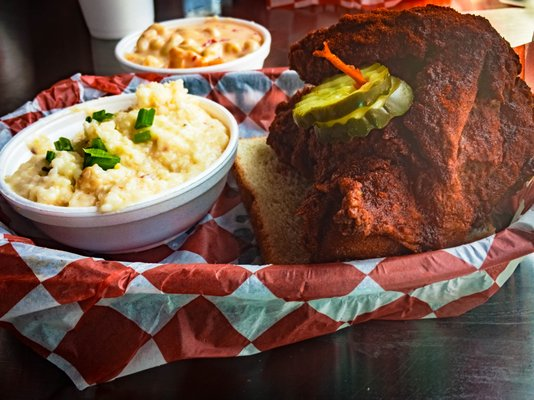pizza: (77, 0, 155, 41)
sushi: (0, 75, 240, 254), (115, 16, 271, 91)
